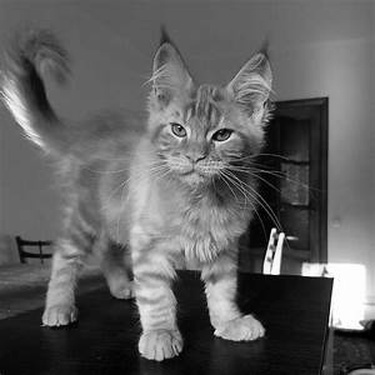cat: (8, 17, 274, 360)
